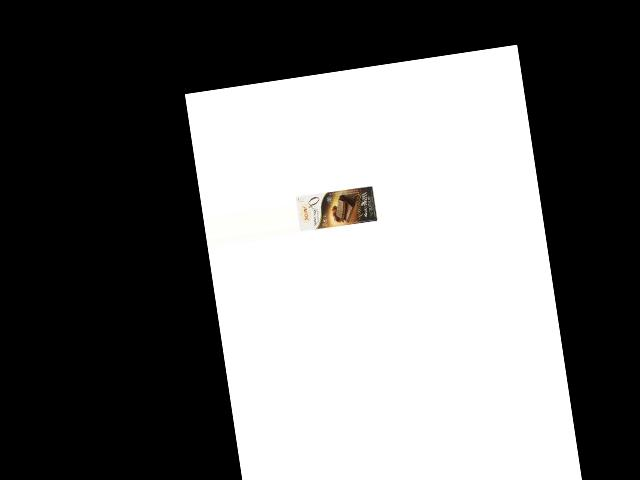chocolate: (295, 183, 378, 233)
